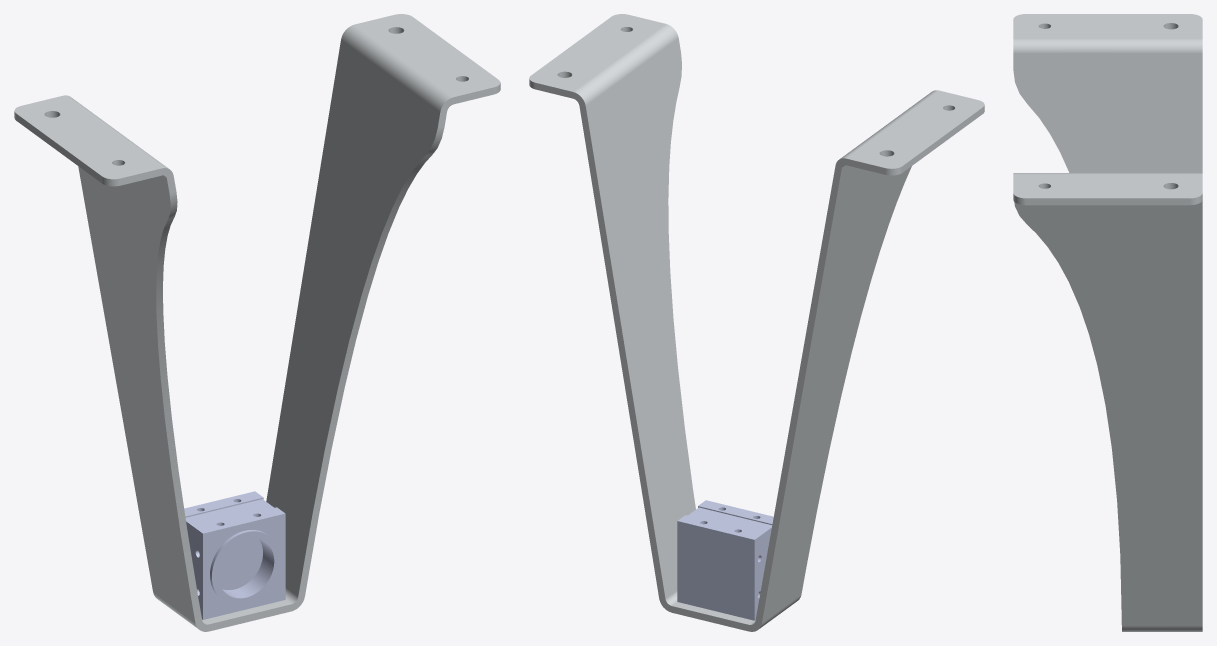
File: camera complex.dae
3 renders of one model, left to right at view 1: azimuth 30°, elevation 25°; view 2: azimuth 150°, elevation 25°; view 3: azimuth 270°, elevation 25°, orthographic. The views are drawn at different scales.
Parts seen in each view (by area): view 1: Polygon (×2); view 2: Polygon (×2); view 3: Polygon.
Boxes of the visible parts, box(x1,y1,x2,y2) form: Polygon (×2): box(14, 14, 500, 631); Polygon (×2): box(529, 14, 984, 631); Polygon: box(1013, 14, 1202, 631).
Size of the model in its own units: 17.29 by 22.1 by 7.5.
